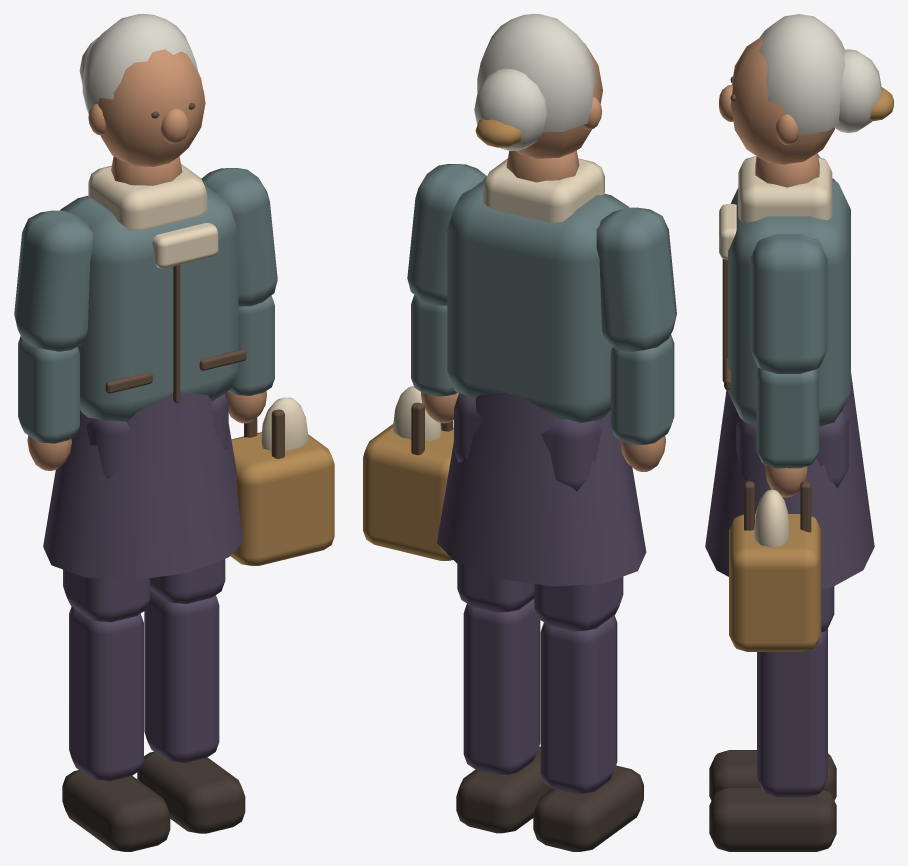
Rendered from pedestrian-shopper.glb.
The picture shows the model from 3 angles, left to right: view 1: azimuth 30°, elevation 25°; view 2: azimuth 150°, elevation 25°; view 3: azimuth 270°, elevation 25°; orthographic projection. The views are drawn at different scales.
Visible parts, largest first — view 1: upper-body, skirt, head, right-knee, left-knee, market-bag, left-shoulder, right-elbow, left-elbow, left-ankle, right-ankle, right-shoulder (+3 smaller); view 2: upper-body, skirt, head, left-knee, right-knee, left-shoulder, market-bag, left-elbow, right-elbow, left-ankle, right-shoulder, right-ankle (+3 smaller); view 3: upper-body, head, skirt, market-bag, right-knee, right-shoulder, right-elbow, right-ankle, Harbor pedestrian shopper, left-ankle, right-thigh.
Part boxes in pixels (x1=…): upper-body: x1=60, y1=156, x2=246, y2=421; skirt: x1=43, y1=392, x2=242, y2=580; head: x1=79, y1=14, x2=205, y2=166; right-knee: x1=144, y1=590, x2=219, y2=762; left-knee: x1=69, y1=606, x2=143, y2=781; market-bag: x1=230, y1=432, x2=334, y2=566; left-shoulder: x1=14, y1=210, x2=92, y2=351; right-elbow: x1=225, y1=295, x2=308, y2=458; left-elbow: x1=18, y1=336, x2=79, y2=470; left-ankle: x1=62, y1=770, x2=170, y2=851; right-ankle: x1=137, y1=751, x2=245, y2=833; right-shoulder: x1=201, y1=168, x2=277, y2=306; upper-body: x1=447, y1=150, x2=629, y2=422; skirt: x1=437, y1=392, x2=646, y2=586; head: x1=474, y1=14, x2=602, y2=158; left-knee: x1=540, y1=615, x2=617, y2=793; right-knee: x1=463, y1=599, x2=540, y2=775; left-shoulder: x1=596, y1=207, x2=676, y2=351; market-bag: x1=363, y1=424, x2=453, y2=560; left-elbow: x1=610, y1=334, x2=674, y2=471; right-elbow: x1=393, y1=295, x2=458, y2=455; left-ankle: x1=533, y1=765, x2=643, y2=851; right-shoulder: x1=407, y1=164, x2=486, y2=305; right-ankle: x1=456, y1=746, x2=552, y2=833; upper-body: x1=719, y1=153, x2=850, y2=426; head: x1=719, y1=14, x2=893, y2=164; skirt: x1=705, y1=373, x2=874, y2=588; market-bag: x1=729, y1=513, x2=821, y2=651; right-knee: x1=757, y1=628, x2=827, y2=797; right-shoulder: x1=750, y1=234, x2=827, y2=373; right-elbow: x1=744, y1=367, x2=819, y2=547; right-ankle: x1=709, y1=787, x2=836, y2=851; Harbor pedestrian shopper: x1=736, y1=411, x2=848, y2=488; left-ankle: x1=709, y1=750, x2=836, y2=800; right-thigh: x1=821, y1=586, x2=834, y2=632.
Bounding box in the file's own units: 0.6357 × 1.67 × 0.3537.
